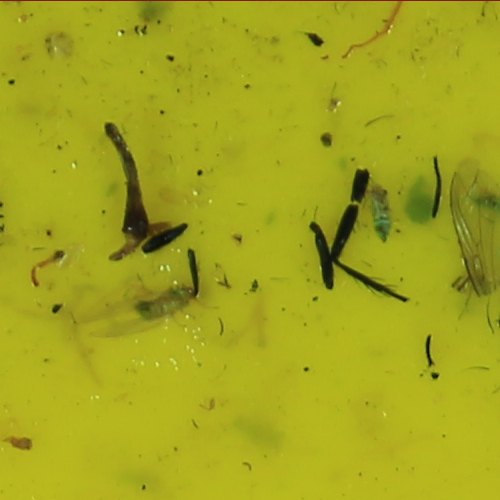psylla: (130, 281, 195, 327), (366, 179, 396, 243)
